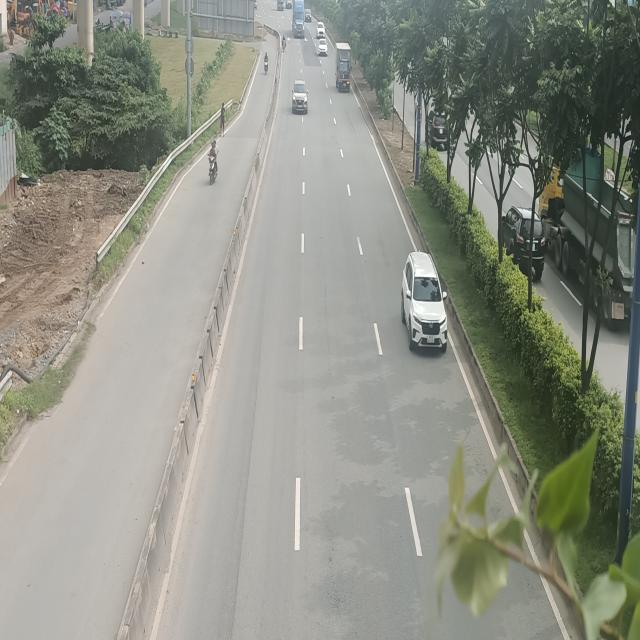car: (401, 252, 448, 348), (291, 79, 309, 114), (318, 39, 329, 56), (316, 20, 326, 38)
container: (292, 0, 304, 39)
truck: (334, 42, 352, 92)
